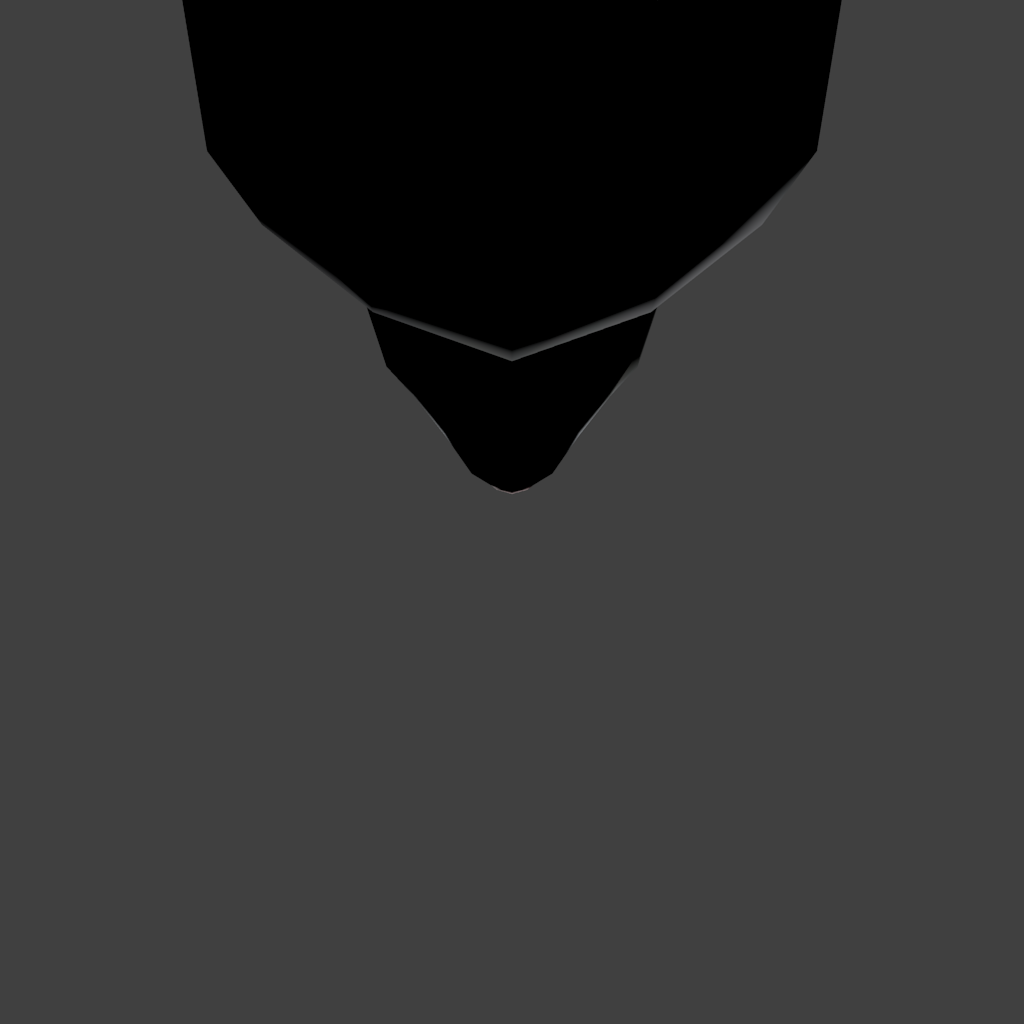Cat: (0, 0, 1024, 494)
